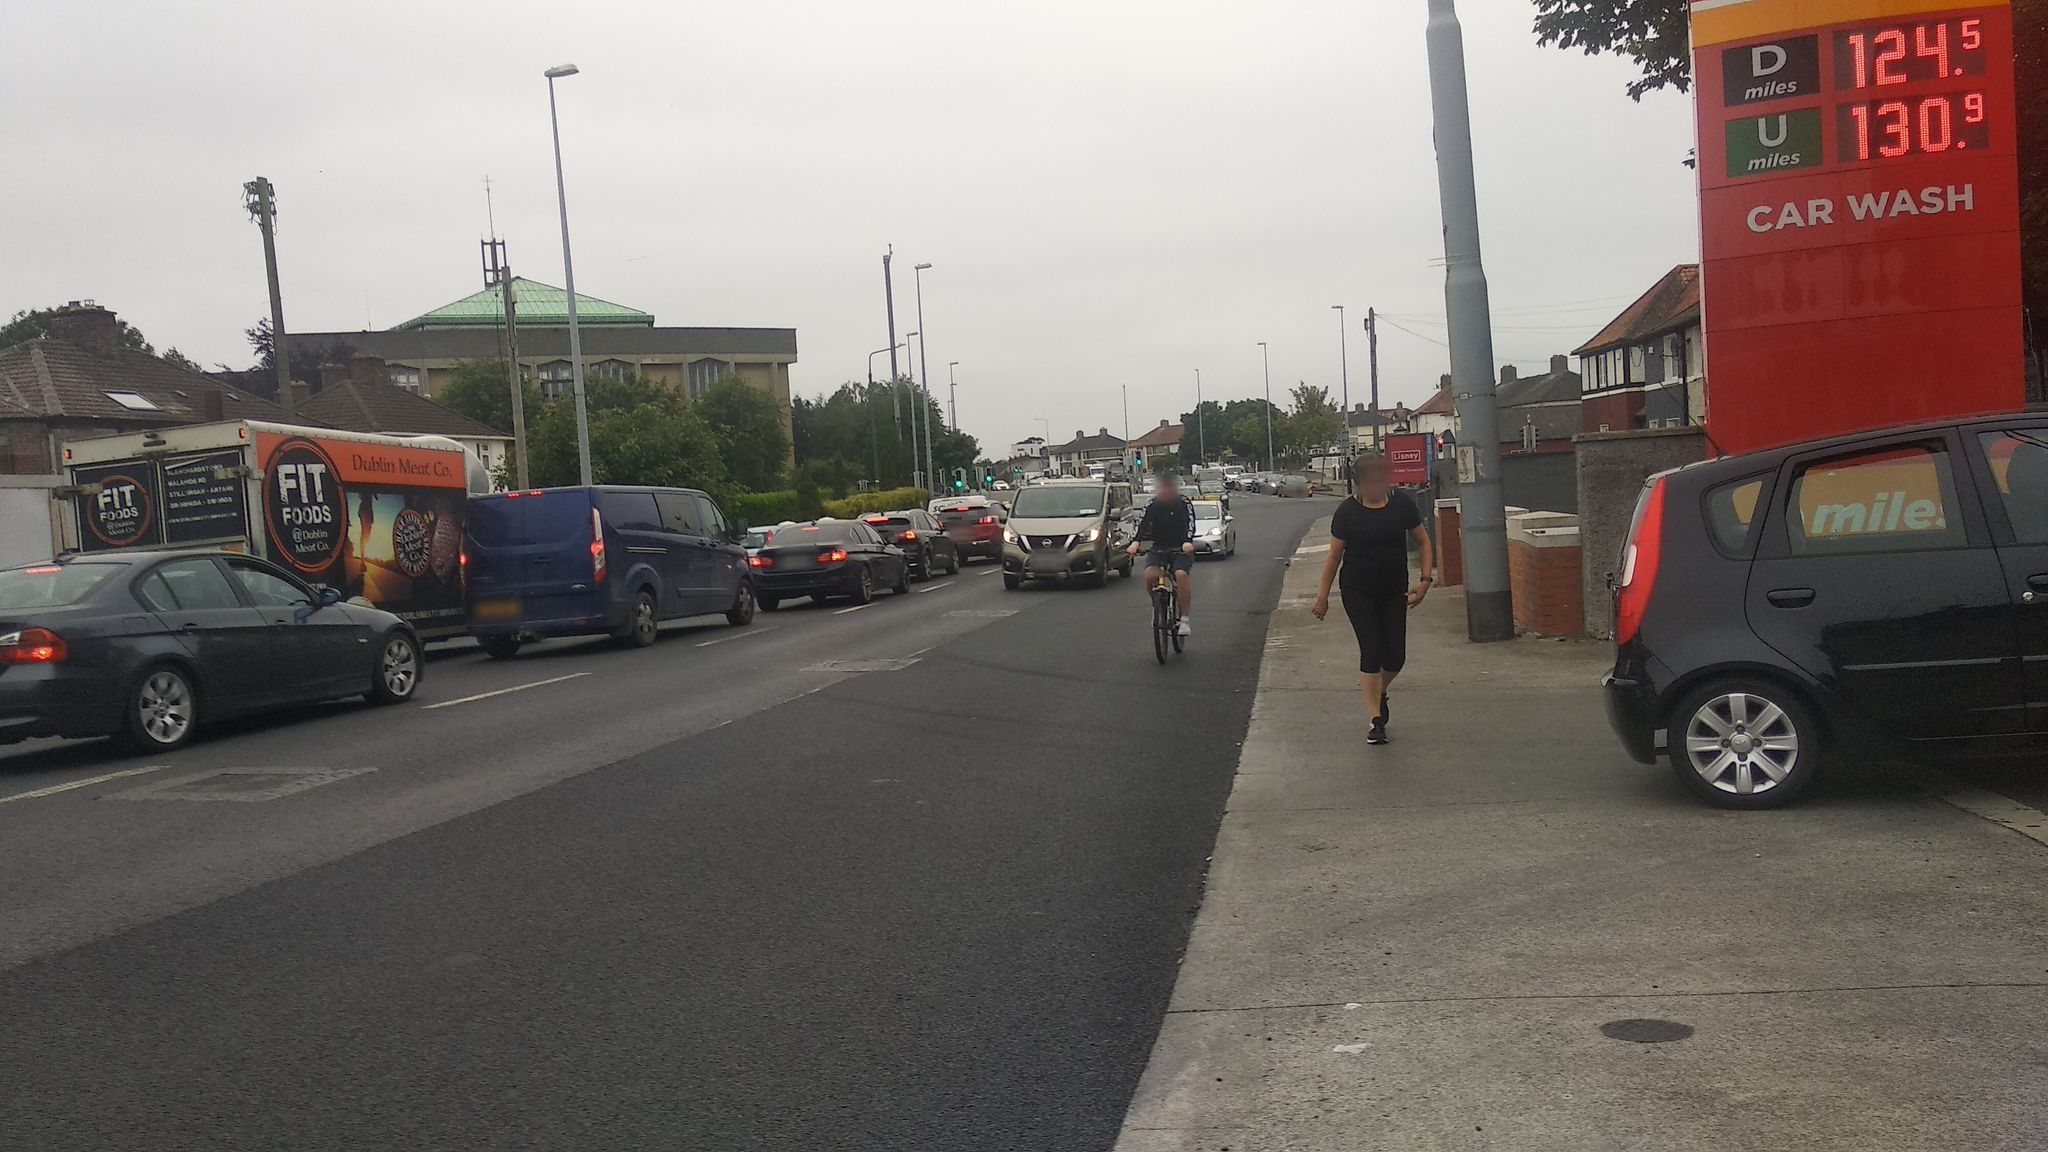property sign: (1378, 421, 1452, 489)
